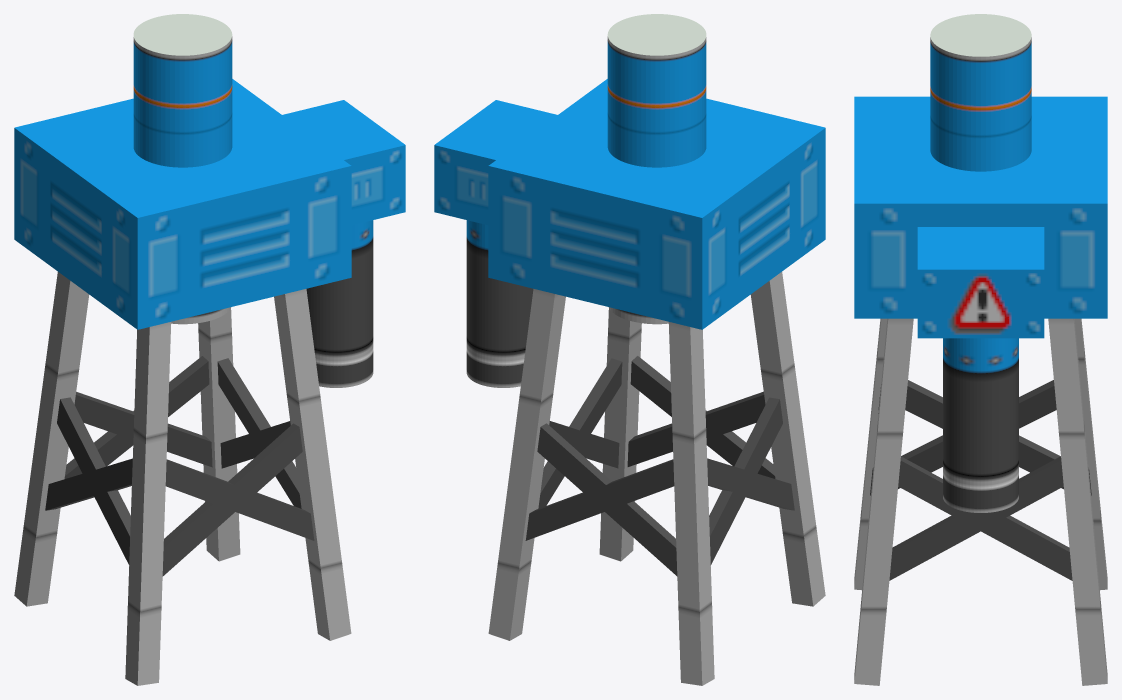
Rendered from derrick1.obj.
3 views of the same model, side by side, from view 1: azimuth 30°, elevation 25°; view 2: azimuth 150°, elevation 25°; view 3: azimuth 270°, elevation 25° (orthographic). The views are drawn at different scales.
Visible parts, largest first — view 1: ColobotMesh_1_ColobotMesh_; view 2: ColobotMesh_1_ColobotMesh_; view 3: ColobotMesh_1_ColobotMesh_.
Part boxes in pixels (x1,y1,x2,y2): ColobotMesh_1_ColobotMesh_: (14, 14, 405, 685); ColobotMesh_1_ColobotMesh_: (434, 14, 825, 685); ColobotMesh_1_ColobotMesh_: (854, 14, 1107, 685).
Size of the model in its own units: 13.71 by 25.58 by 9.81.
